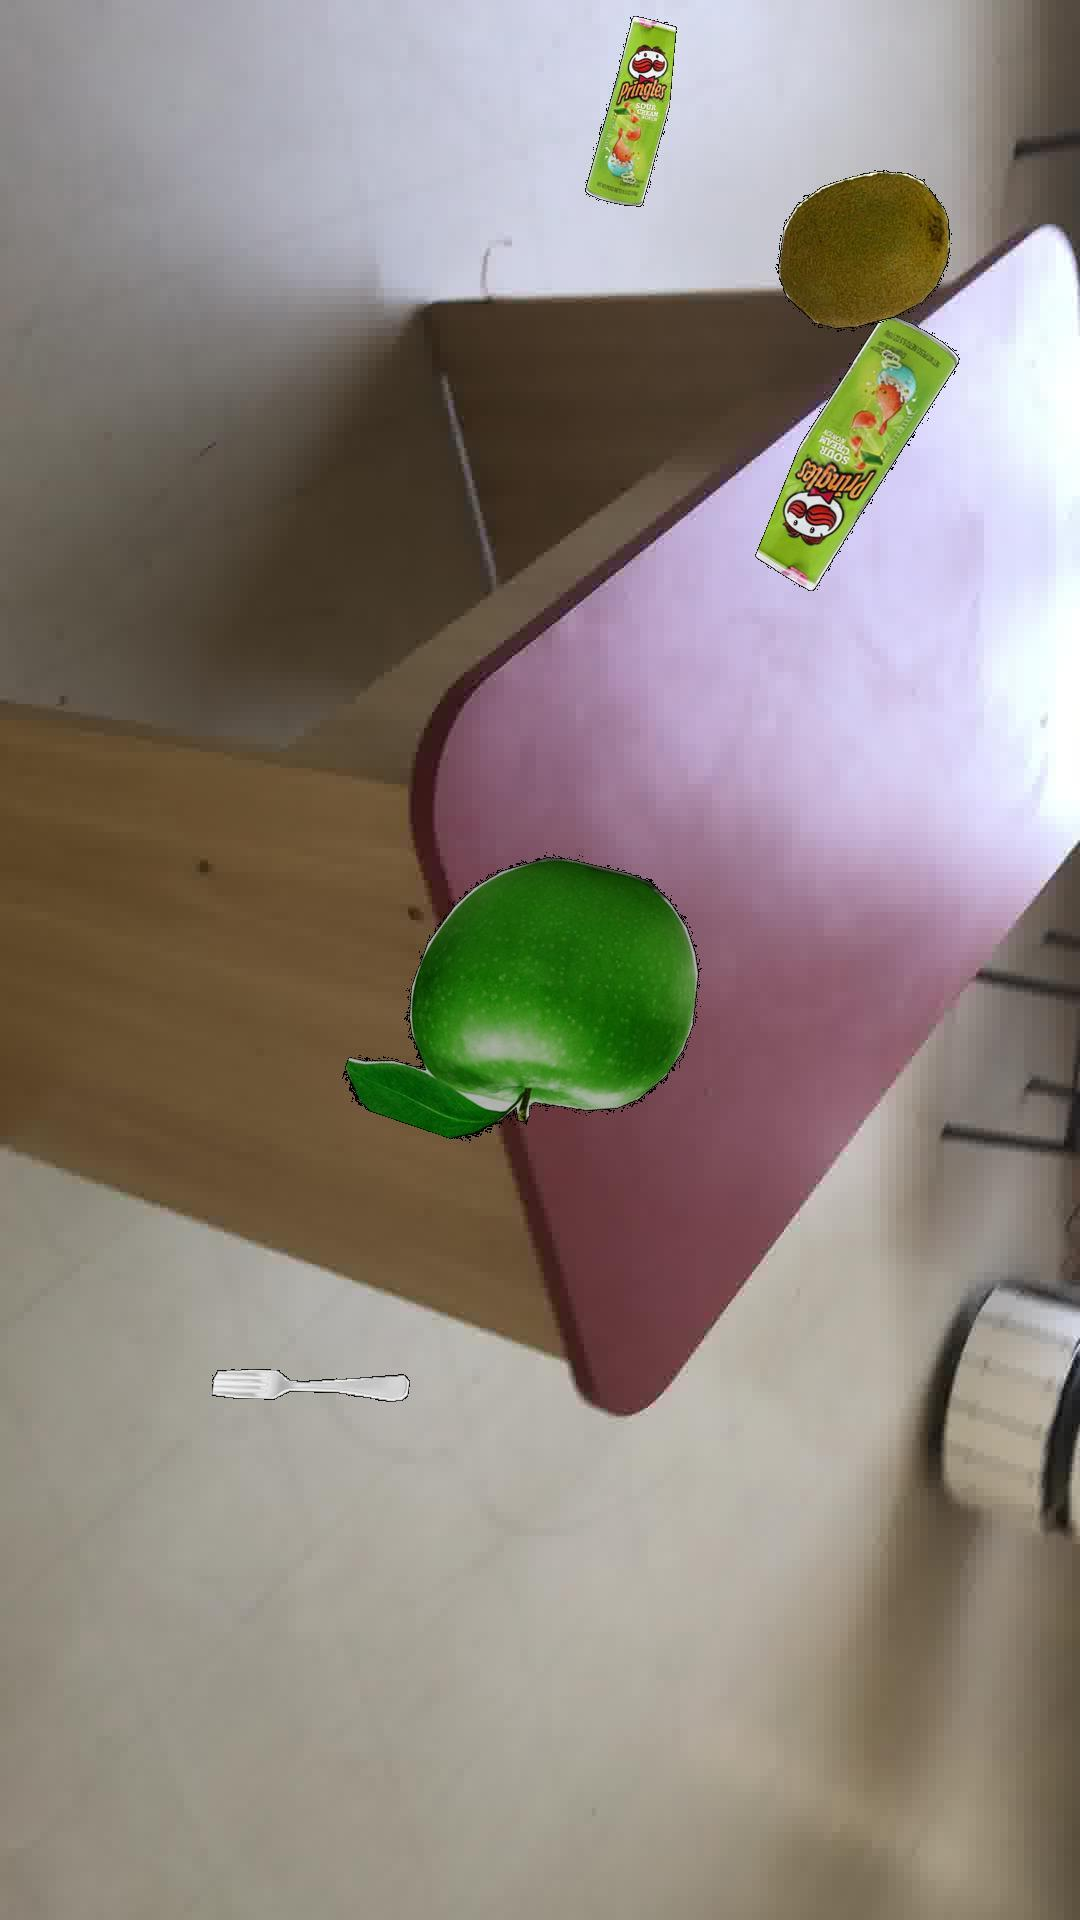fork: (211, 1367, 409, 1400)
green apple: (342, 856, 700, 1139)
kiwi: (774, 169, 948, 327)
pringles: (753, 315, 959, 589), (583, 15, 675, 206)
